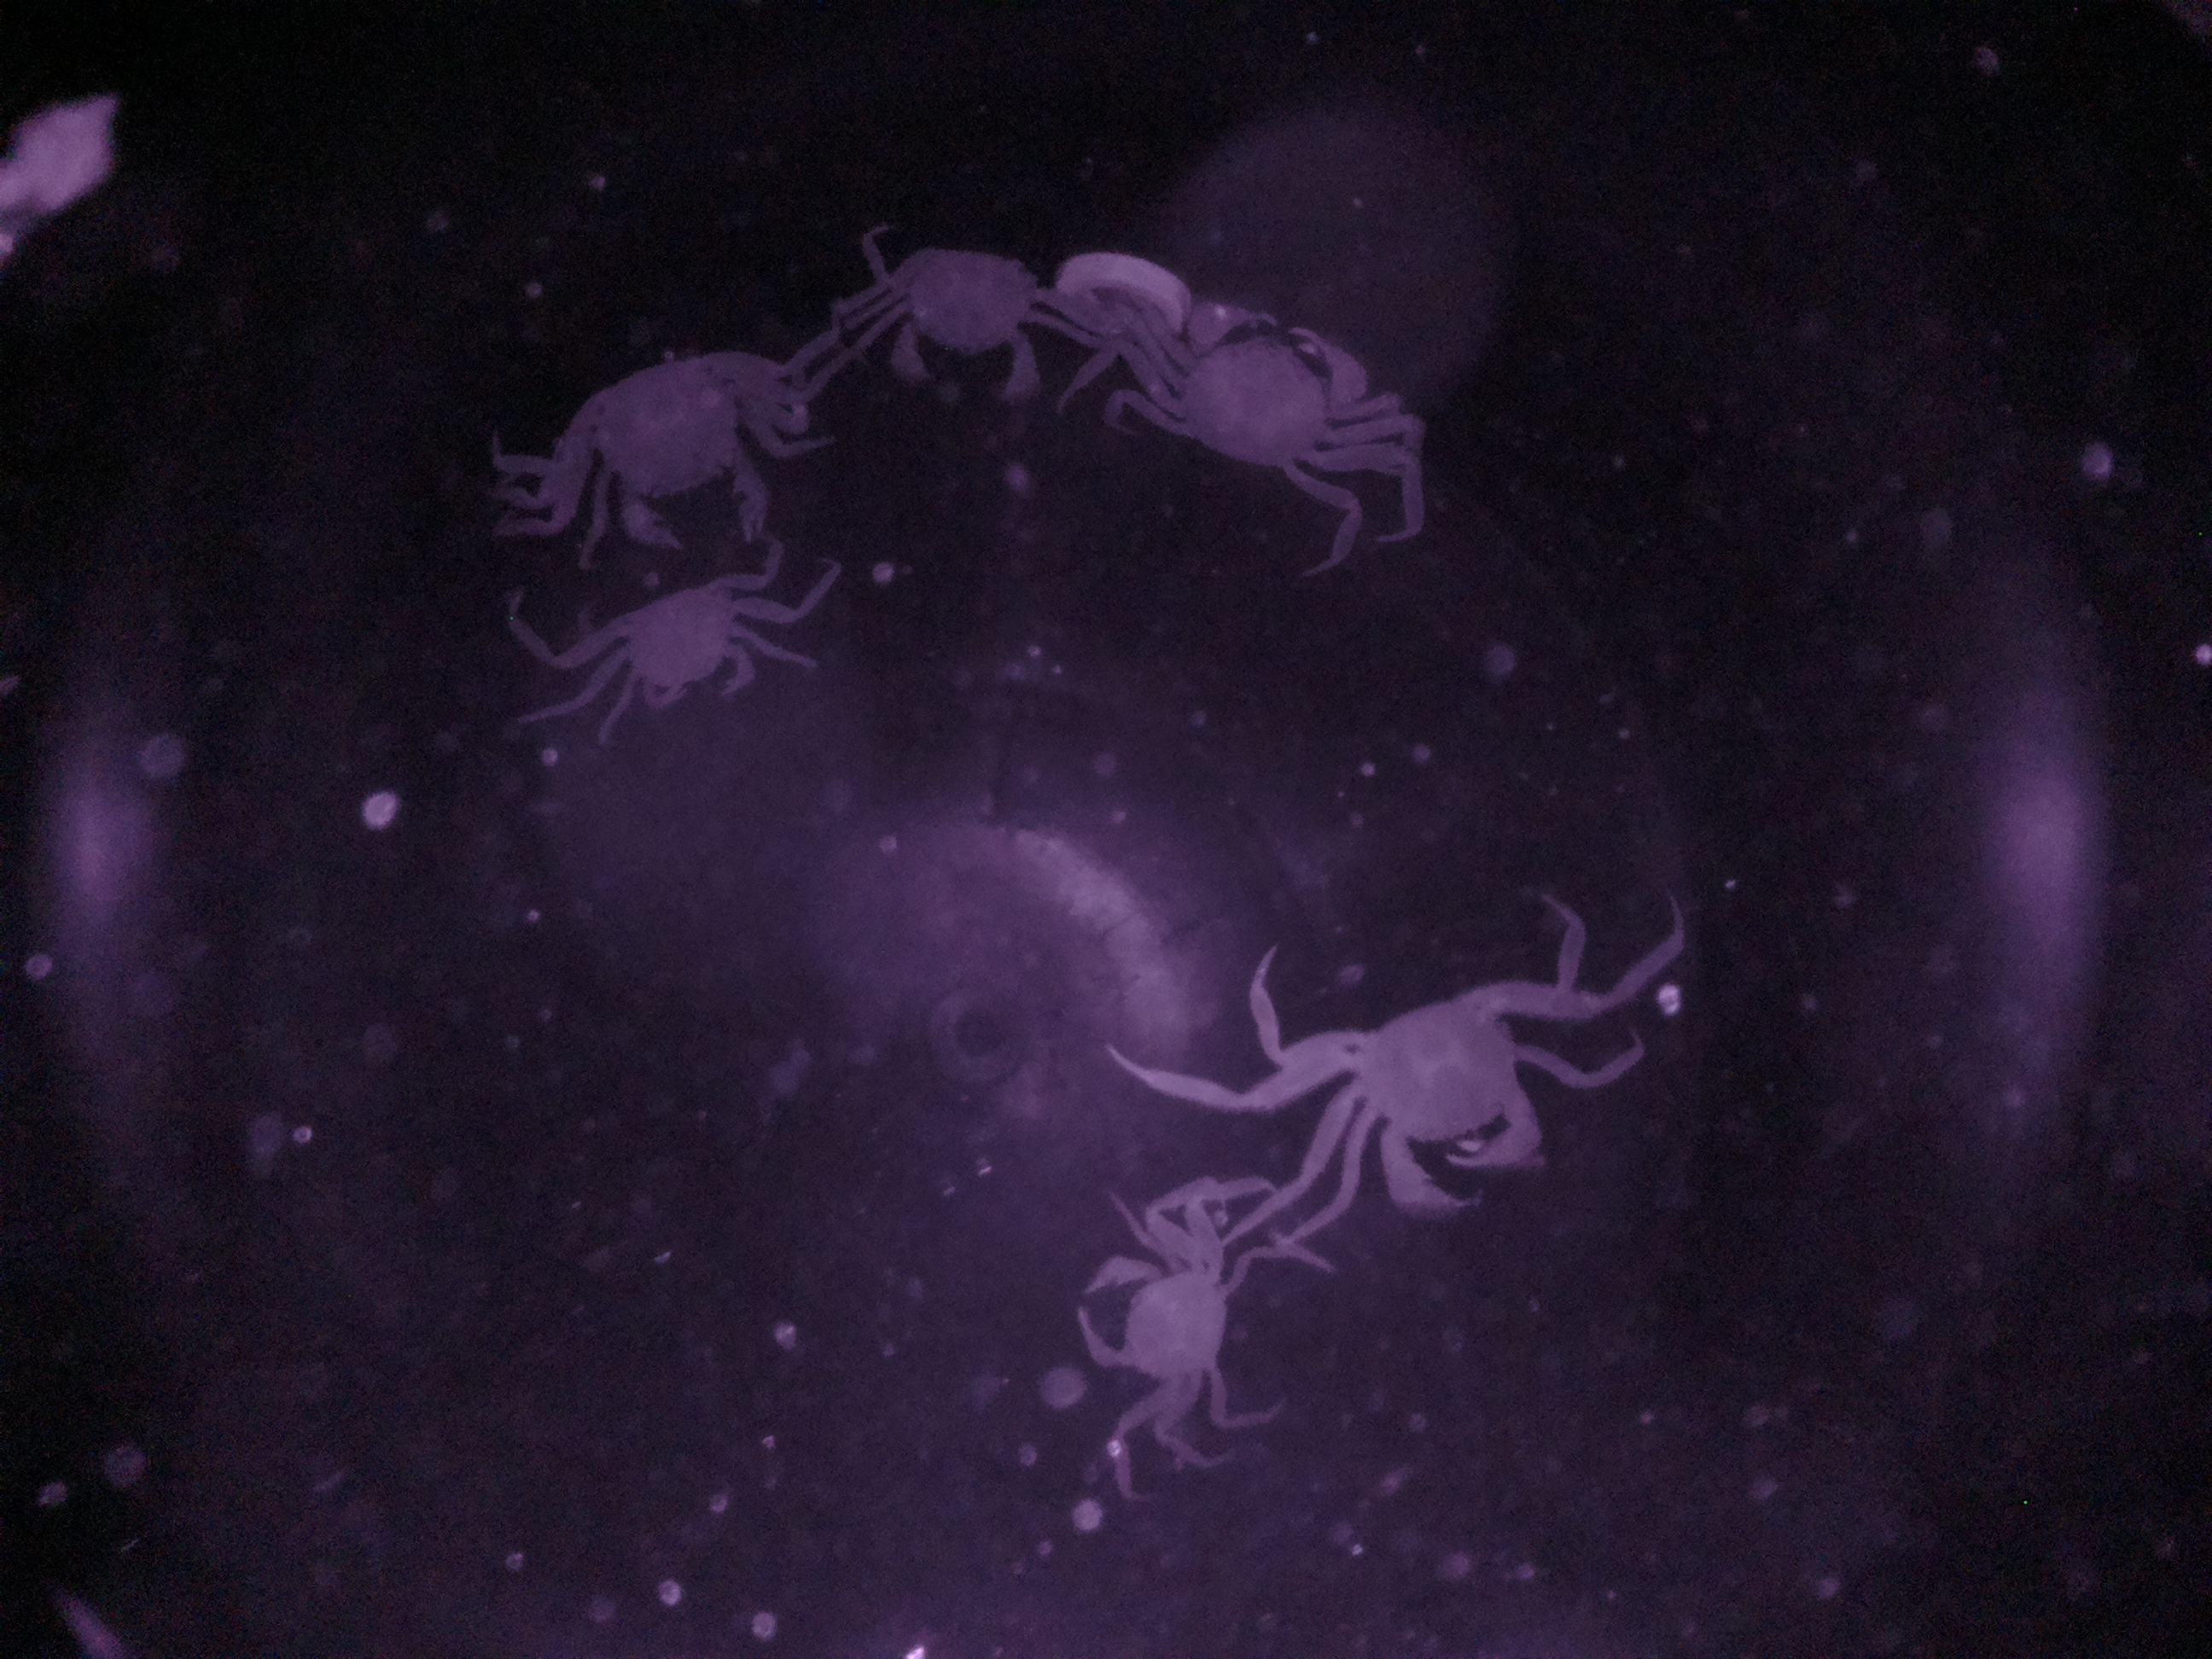Crab: (1303, 962, 1575, 1222), (1129, 301, 1379, 511), (571, 335, 786, 540), (1064, 1202, 1254, 1413), (582, 561, 773, 753), (860, 242, 1057, 418)
